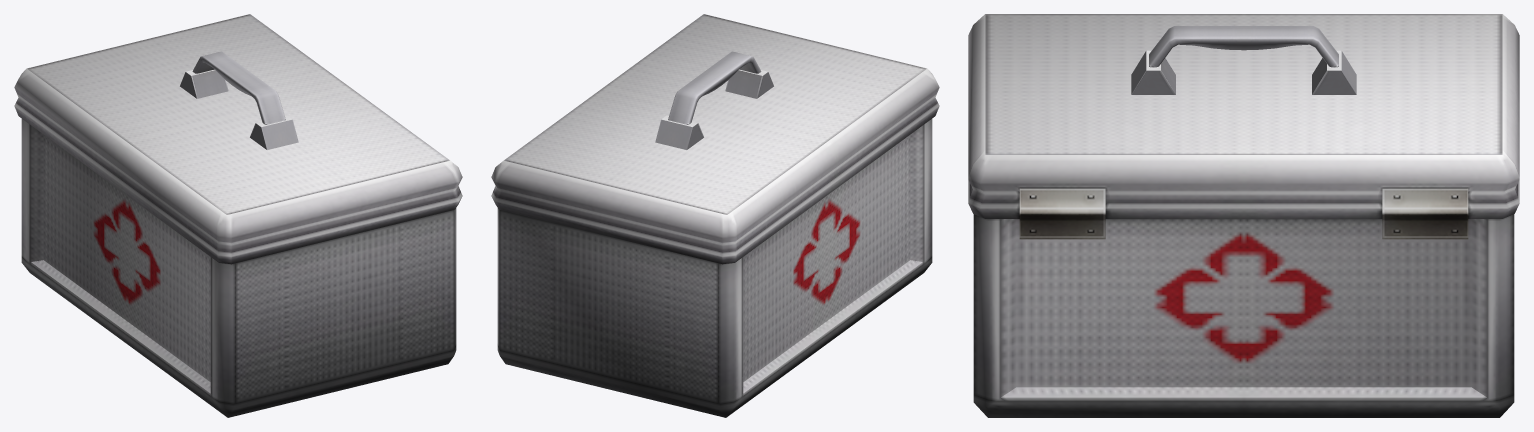
File: CeSuo_01_yiliaoxiang_01.FBX
3 views of the same model, side by side, from view 1: azimuth 30°, elevation 25°; view 2: azimuth 150°, elevation 25°; view 3: azimuth 270°, elevation 25° (orthographic). The views are drawn at different scales.
Parts seen in each view (by area): view 1: CeSuo_01_baoxianxiang_01; view 2: CeSuo_01_baoxianxiang_01; view 3: CeSuo_01_baoxianxiang_01.
Part boxes in pixels (left/top/right/bottom): CeSuo_01_baoxianxiang_01: left=14, top=14, right=462, bottom=417; CeSuo_01_baoxianxiang_01: left=491, top=14, right=939, bottom=417; CeSuo_01_baoxianxiang_01: left=968, top=14, right=1519, bottom=417.
Bounding box in the file's own units: 168 × 160 × 252.
